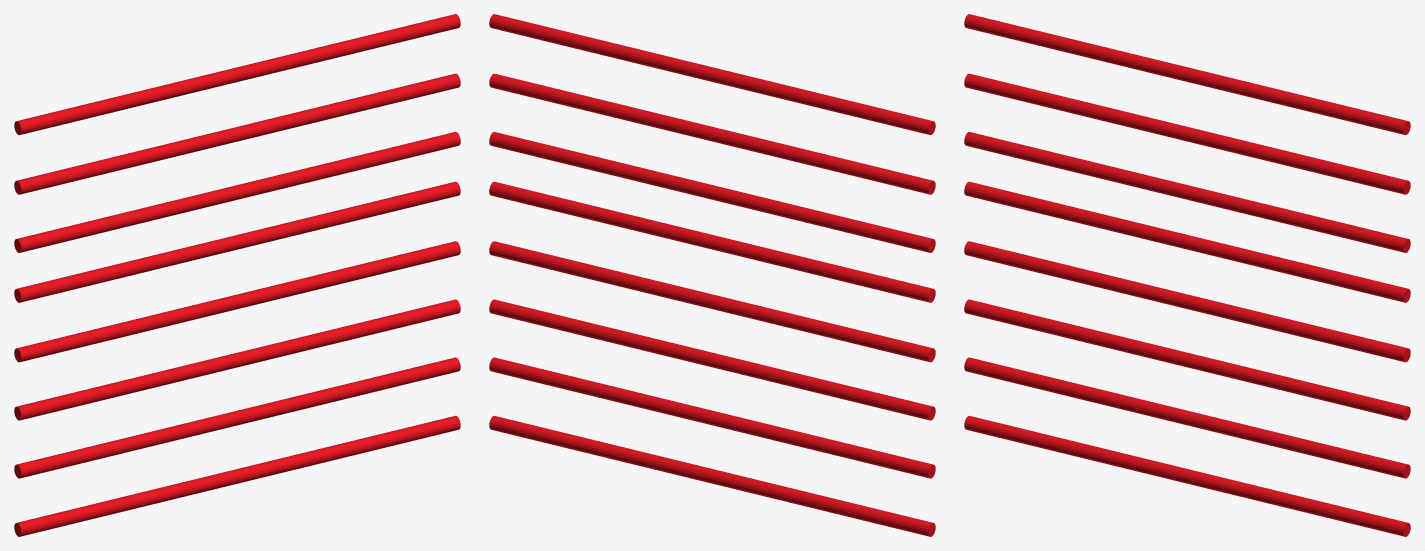
Rendered from LaserBars.fbx.
3 renders of one model, left to right at view 1: azimuth 30°, elevation 25°; view 2: azimuth 150°, elevation 25°; view 3: azimuth 330°, elevation 25°, orthographic.
Parts seen in each view (by area): view 1: Cylinder.015, Cylinder.013, Cylinder.009, Cylinder.010, Cylinder.019, Cylinder.008, Cylinder.005, Cylinder.017; view 2: Cylinder.015, Cylinder.013, Cylinder.009, Cylinder.010, Cylinder.019, Cylinder.008, Cylinder.005, Cylinder.017; view 3: Cylinder.015, Cylinder.013, Cylinder.009, Cylinder.010, Cylinder.019, Cylinder.008, Cylinder.005, Cylinder.017.
Boxes of the visible parts, left/top/right/bottom form: Cylinder.015: left=14, top=241, right=460, bottom=362; Cylinder.013: left=14, top=73, right=460, bottom=194; Cylinder.009: left=14, top=415, right=460, bottom=536; Cylinder.010: left=14, top=299, right=460, bottom=420; Cylinder.019: left=14, top=14, right=460, bottom=135; Cylinder.008: left=14, top=357, right=460, bottom=478; Cylinder.005: left=14, top=132, right=460, bottom=252; Cylinder.017: left=14, top=181, right=460, bottom=302; Cylinder.015: left=489, top=241, right=935, bottom=362; Cylinder.013: left=489, top=73, right=935, bottom=194; Cylinder.009: left=489, top=415, right=935, bottom=536; Cylinder.010: left=489, top=299, right=935, bottom=420; Cylinder.019: left=489, top=14, right=935, bottom=135; Cylinder.008: left=489, top=357, right=935, bottom=478; Cylinder.005: left=489, top=132, right=935, bottom=252; Cylinder.017: left=489, top=181, right=935, bottom=302; Cylinder.015: left=964, top=241, right=1410, bottom=362; Cylinder.013: left=964, top=73, right=1410, bottom=194; Cylinder.009: left=964, top=415, right=1410, bottom=536; Cylinder.010: left=964, top=299, right=1410, bottom=420; Cylinder.019: left=964, top=14, right=1410, bottom=135; Cylinder.008: left=964, top=357, right=1410, bottom=478; Cylinder.005: left=964, top=132, right=1410, bottom=252; Cylinder.017: left=964, top=181, right=1410, bottom=302.
Bounding box in the file's own units: 1901 × 1715 × 54.07.
